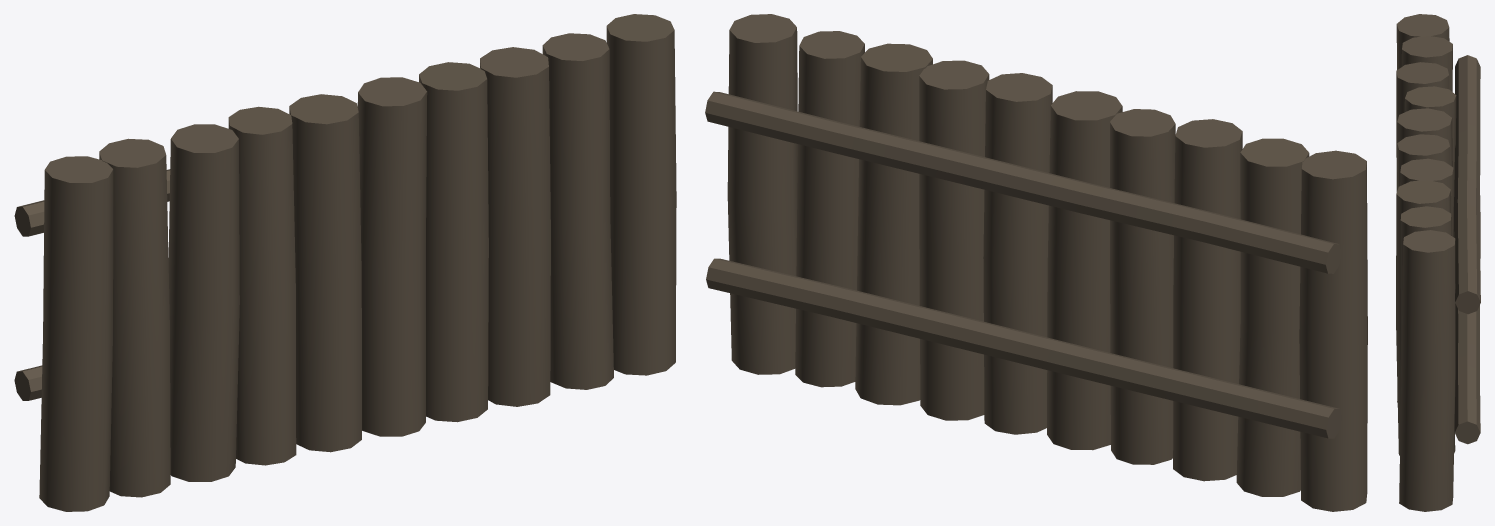
File: bruestung_holz_10_2m.glb
The picture shows the model from 3 angles, left to right: view 1: azimuth 30°, elevation 25°; view 2: azimuth 150°, elevation 25°; view 3: azimuth 270°, elevation 25°; orthographic projection. The views are drawn at different scales.
Parts seen in each view (by area): view 1: bruestung_holz_10_2m; view 2: bruestung_holz_10_2m; view 3: bruestung_holz_10_2m.
Part boxes in pixels (x1=…): bruestung_holz_10_2m: x1=14, y1=14, x2=676, y2=511; bruestung_holz_10_2m: x1=705, y1=14, x2=1367, y2=511; bruestung_holz_10_2m: x1=1396, y1=14, x2=1480, y2=511.
Bounding box in the file's own units: 1.99 × 1.01 × 0.2971.
